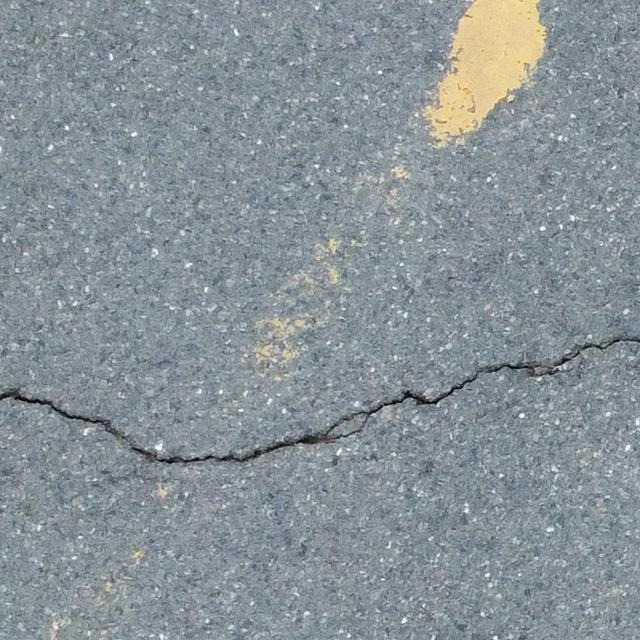TransverseCrack: (1, 335, 640, 467)
